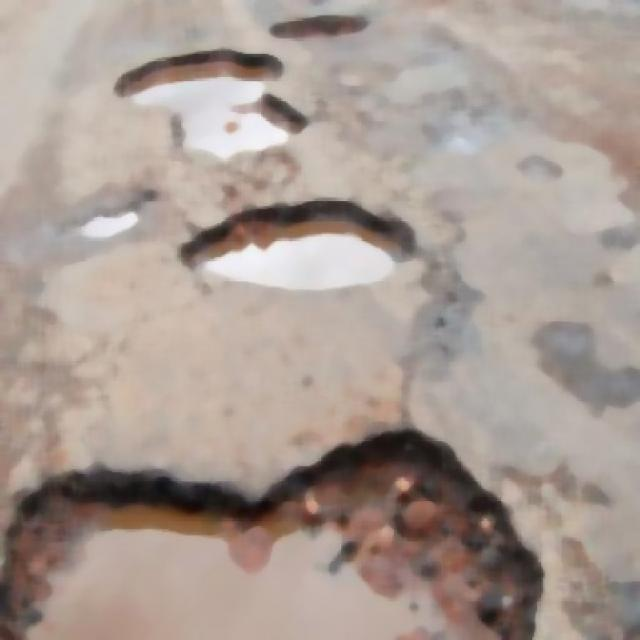Pothole: (8, 445, 560, 638), (207, 182, 416, 302), (133, 63, 296, 165), (280, 9, 372, 57)
